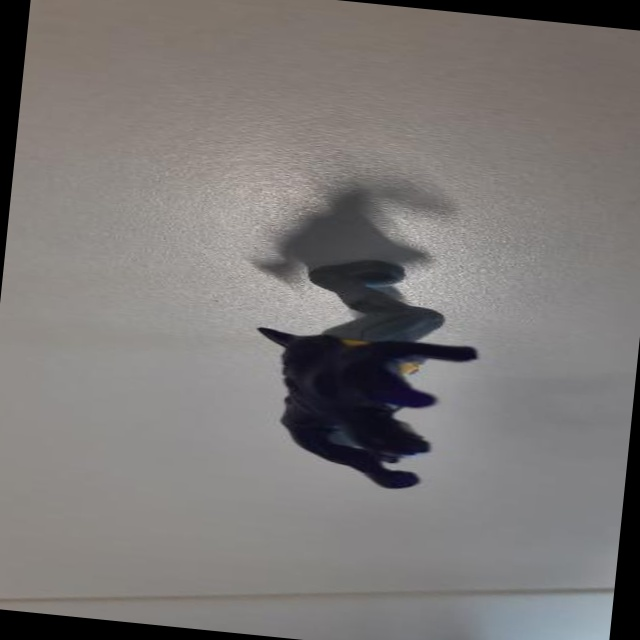Batman: (233, 226, 509, 505)
